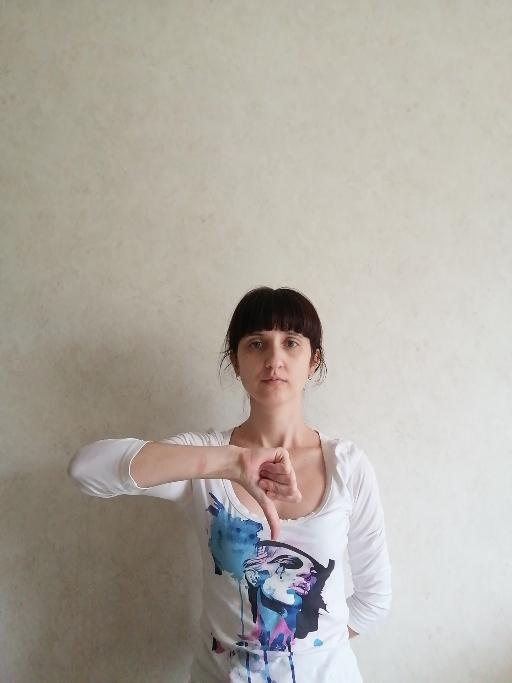dislike: (238, 444, 303, 542)
